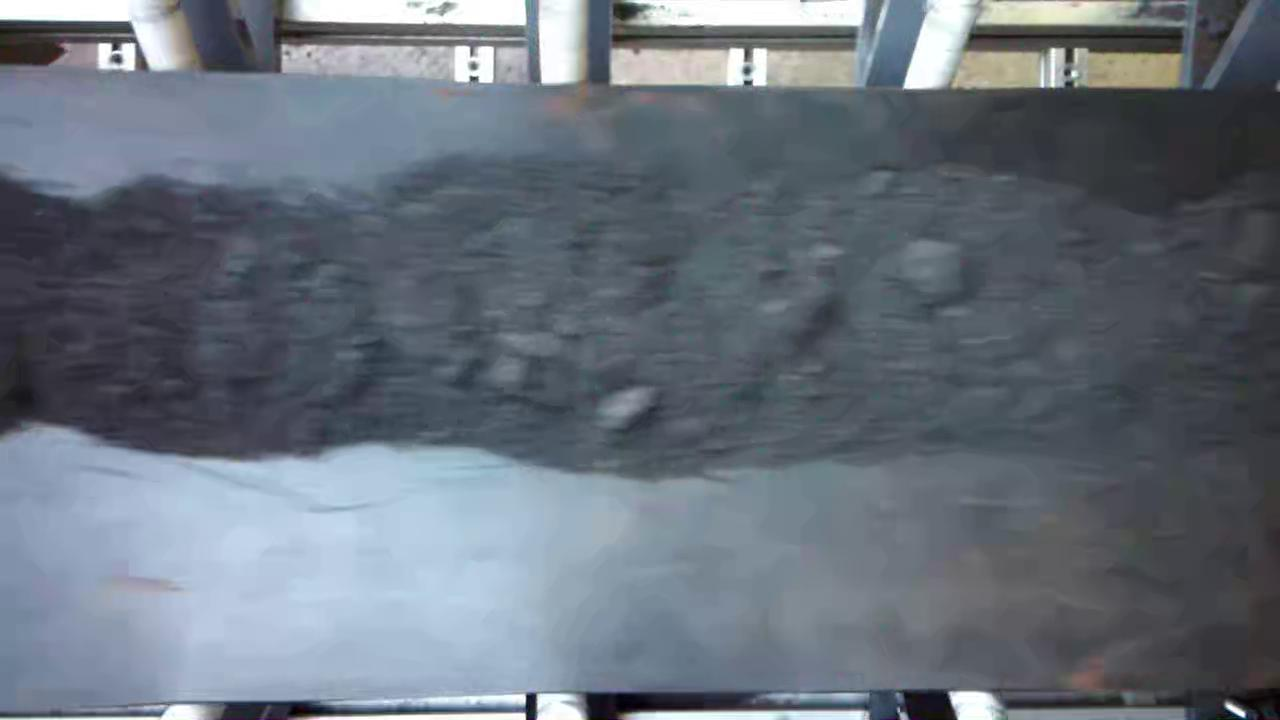conveyor: (1, 89, 1279, 682)
